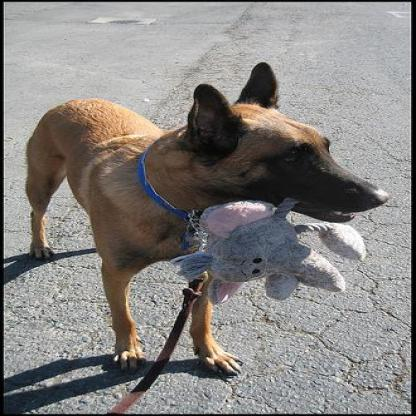malinois: (22, 57, 390, 376)
